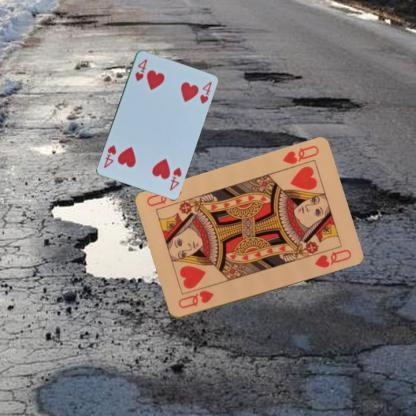4h: (167, 164, 183, 191), (132, 56, 148, 82)
Qh: (280, 143, 320, 166), (175, 288, 215, 310)
